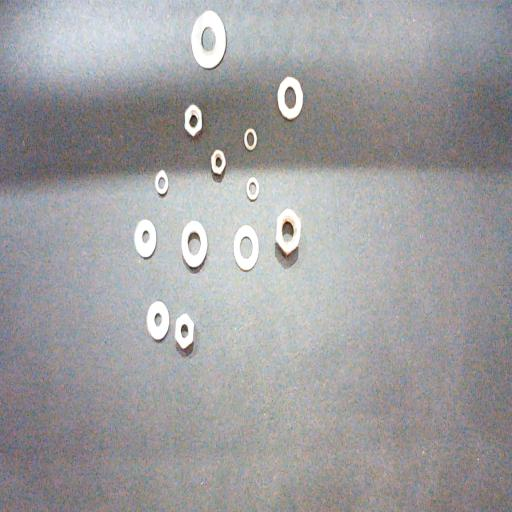nut: (276, 208, 301, 255), (175, 314, 194, 350), (184, 104, 202, 136), (211, 149, 226, 175)
washer: (190, 10, 227, 69), (181, 220, 207, 268), (234, 224, 259, 271), (277, 76, 303, 119), (146, 300, 170, 340), (134, 218, 156, 258), (154, 170, 168, 194), (246, 177, 260, 200), (244, 127, 257, 151)
